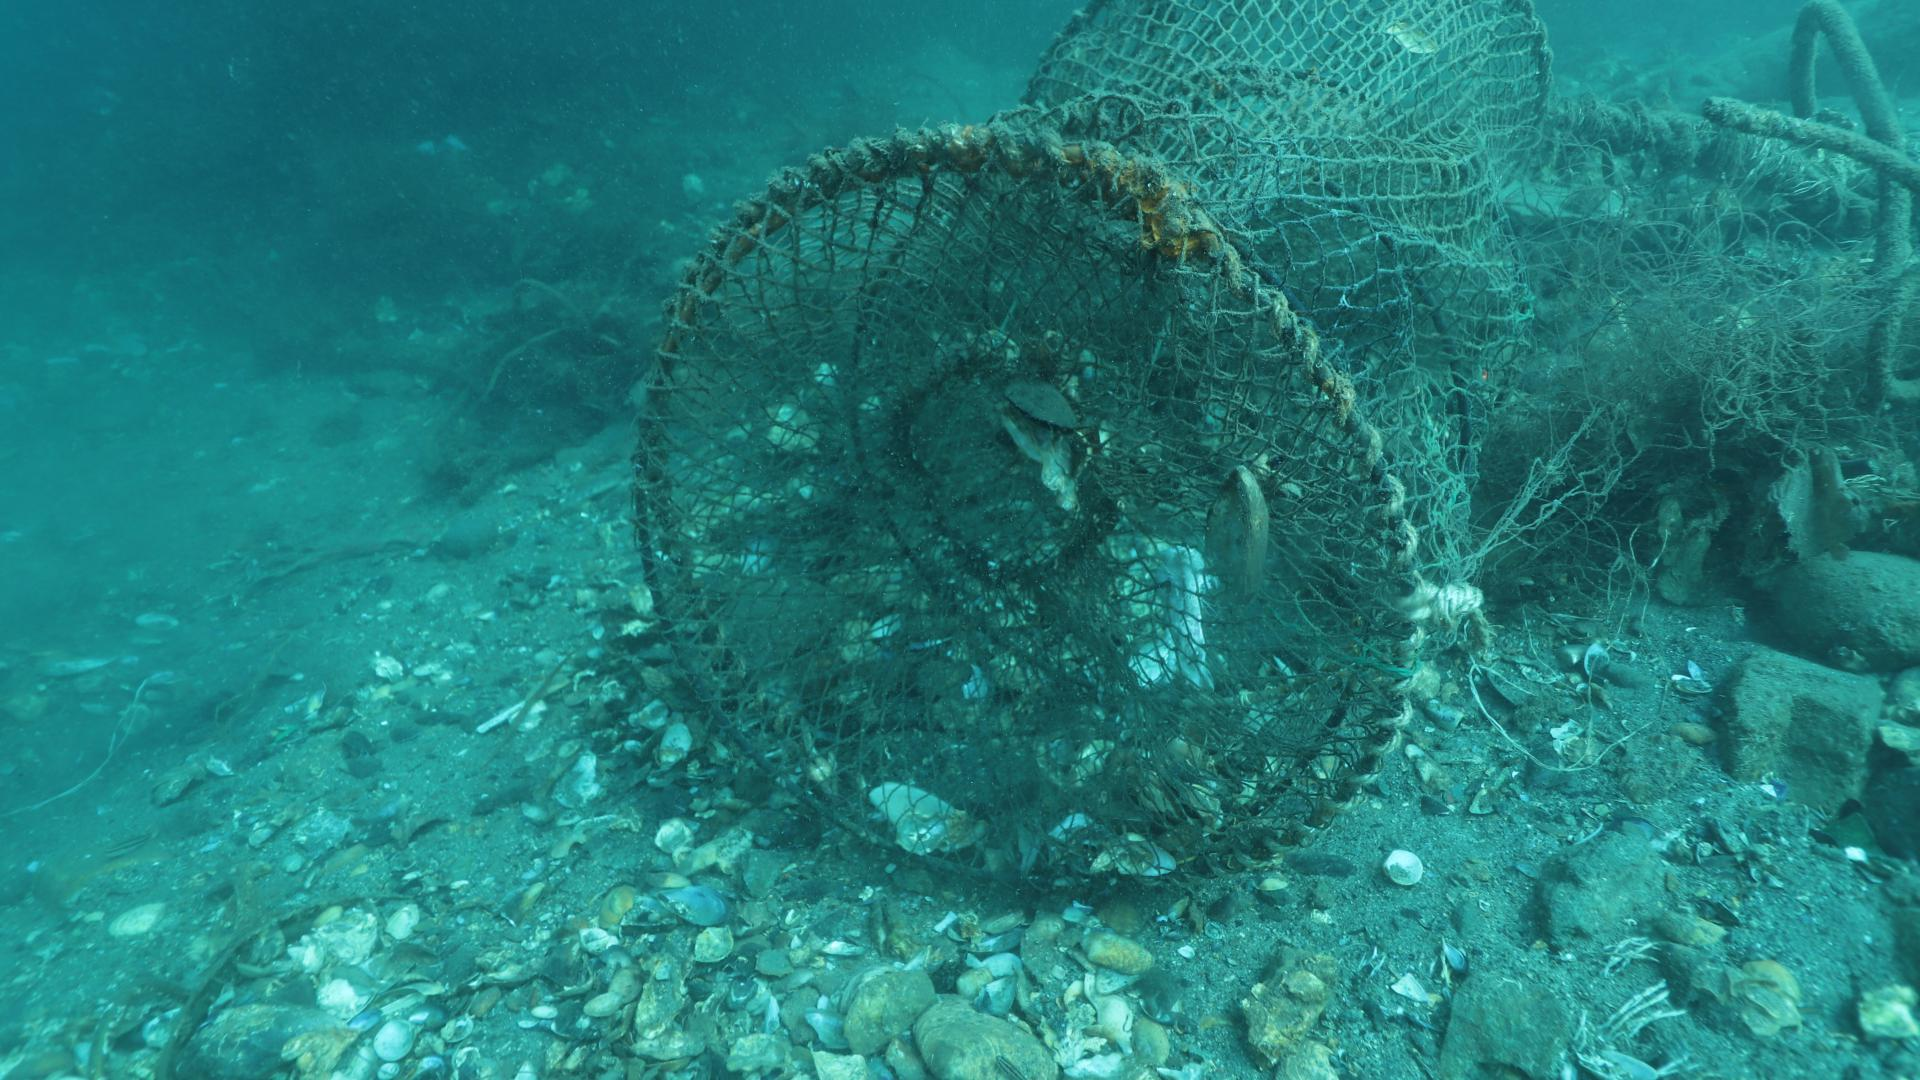spring fish trap: (632, 0, 1552, 899)
